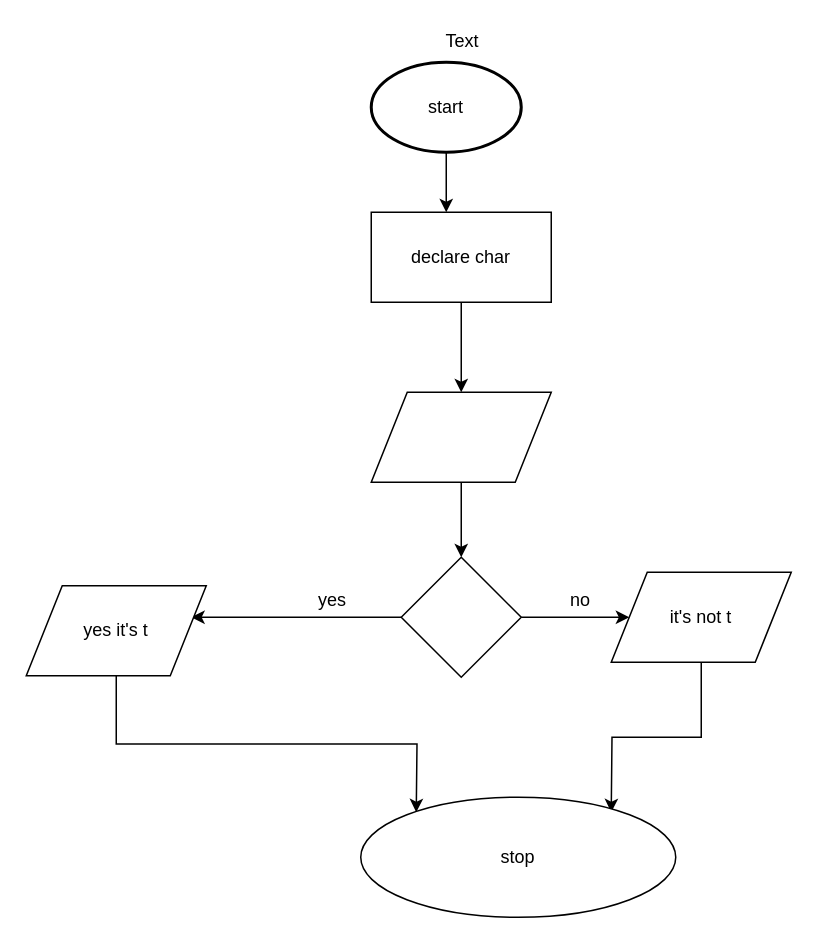
This 818x944 diagram has some shape labels left out. The box of each missing label's shape, as (x1, y1, x2, y2) in pixels:
if char==t: (400, 556, 521, 677)
read char: (370, 391, 551, 482)
